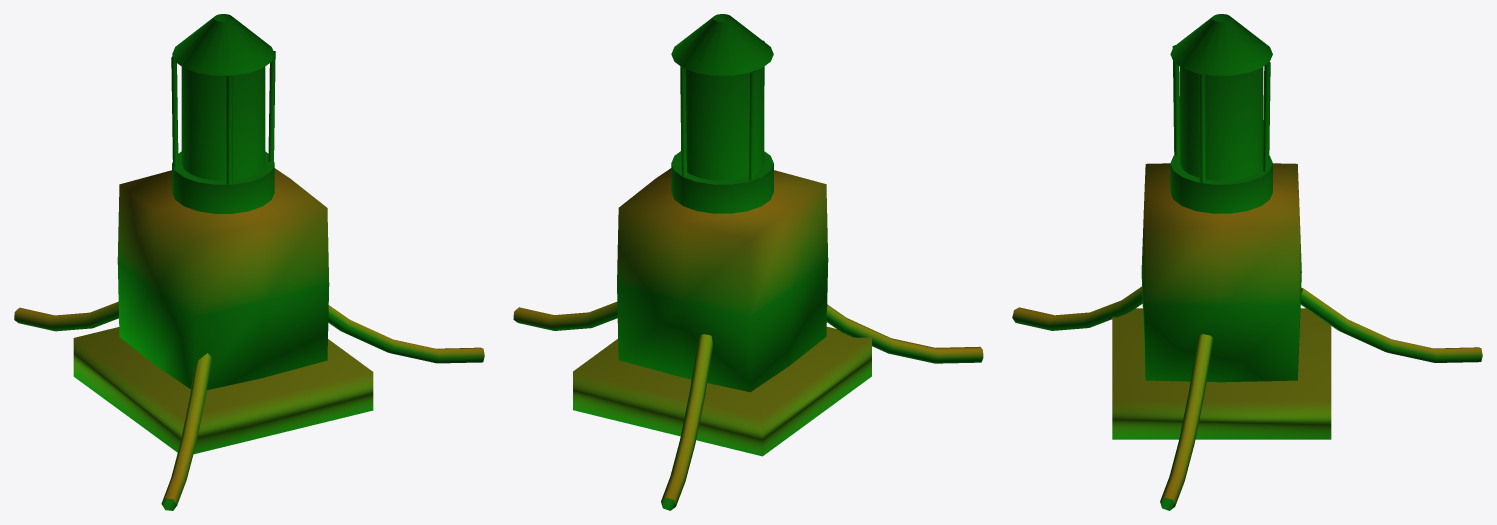
Rendered from spire_lamp_engine.glb.
3 renders of one model, left to right at view 1: azimuth 30°, elevation 25°; view 2: azimuth 150°, elevation 25°; view 3: azimuth 270°, elevation 25°, orthographic.
Visible parts, largest first — view 1: spire_lamp_engine; view 2: spire_lamp_engine; view 3: spire_lamp_engine.
Part boxes in pixels (bbox=[...]): spire_lamp_engine: bbox=[14, 14, 484, 510]; spire_lamp_engine: bbox=[513, 14, 983, 510]; spire_lamp_engine: bbox=[1012, 14, 1482, 510].
Size of what is drawn, in the model's own units: 2.84 by 2.62 by 2.94.
